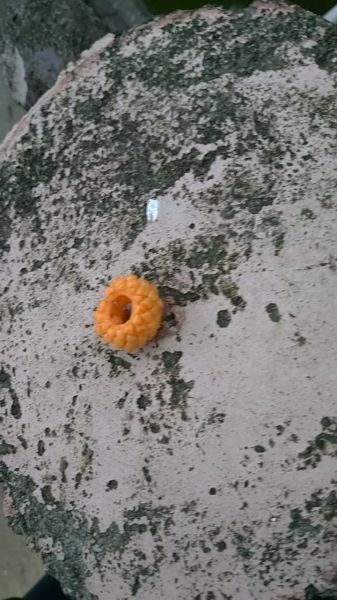eggs: (92, 272, 166, 355)
